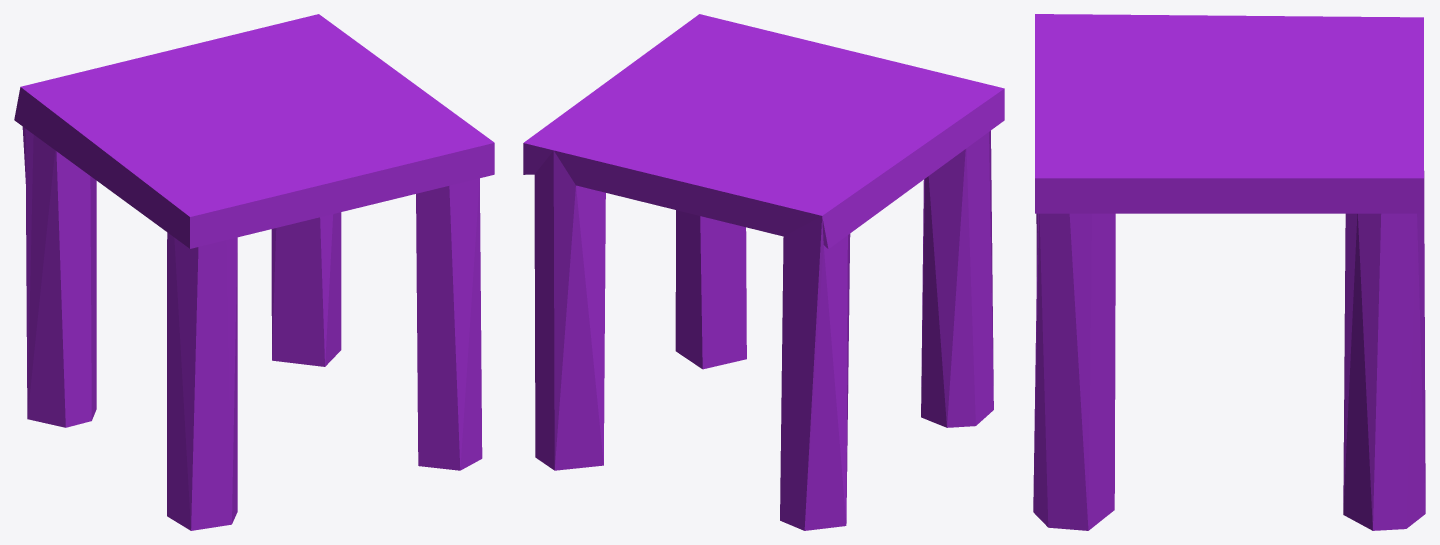
Rendered from mesa.fbx.
3 renders of one model, left to right at view 1: azimuth 30°, elevation 25°; view 2: azimuth 150°, elevation 25°; view 3: azimuth 270°, elevation 25°, orthographic. The views are drawn at different scales.
Parts seen in each view (by area): view 1: Cube.001; view 2: Cube.001; view 3: Cube.001.
Part boxes in pixels (x1,y1,x2,y2): Cube.001: (14, 14, 494, 530); Cube.001: (523, 14, 1004, 530); Cube.001: (1033, 14, 1425, 530).
Bounding box in the file's own units: 202 × 200 × 202.
